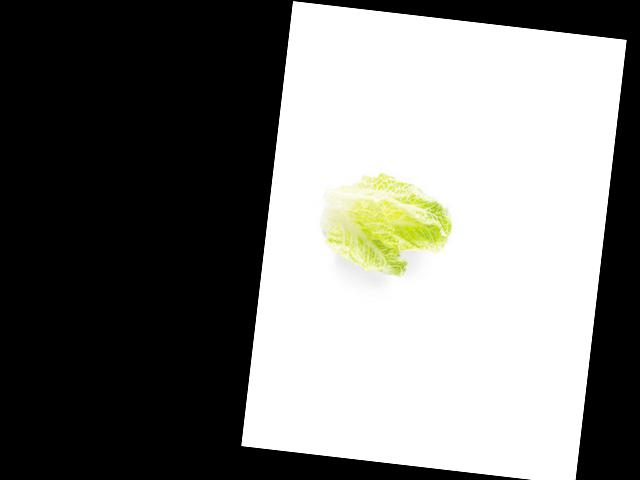lettuce: (338, 168, 459, 279)
